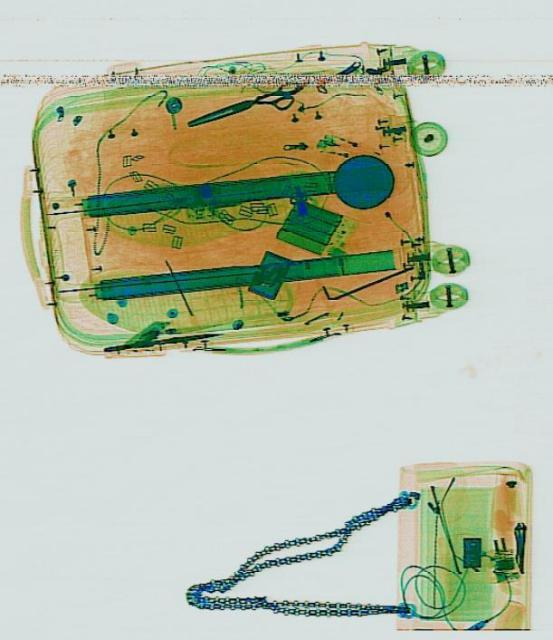Scissors: (183, 76, 304, 136)
